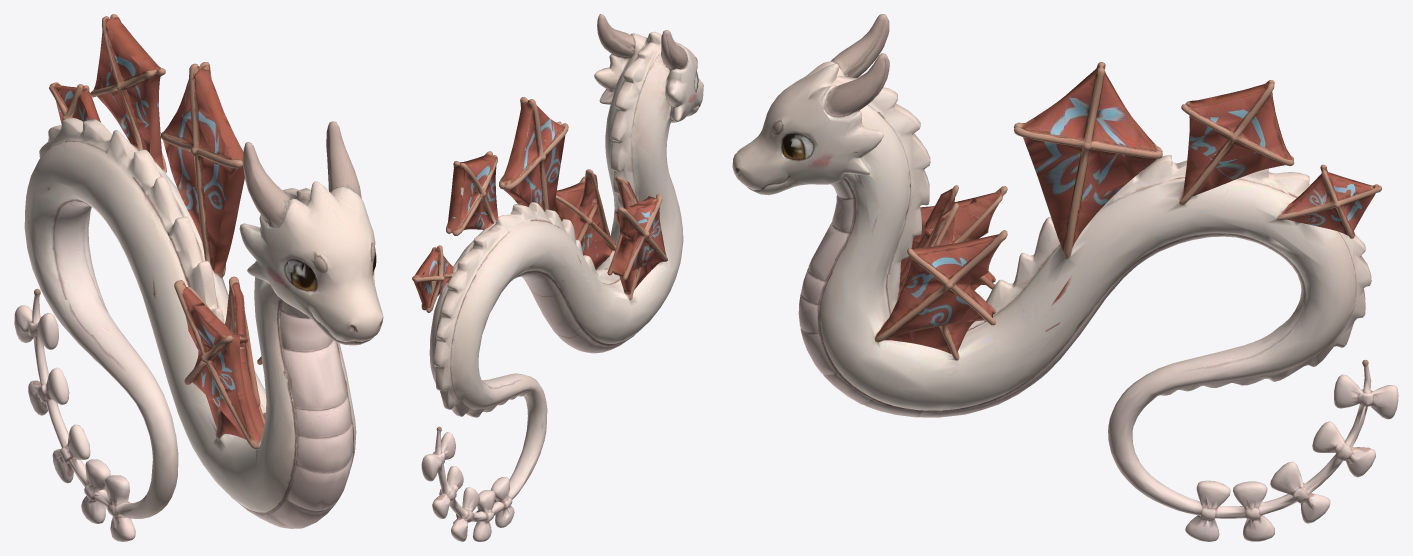
3 renders of one model, left to right at view 1: azimuth 30°, elevation 25°; view 2: azimuth 150°, elevation 25°; view 3: azimuth 270°, elevation 25°, orthographic. The views are drawn at different scales.
Visible parts, largest first — view 1: Mesh_0; view 2: Mesh_0; view 3: Mesh_0.
Part boxes in pixels (x1=…): Mesh_0: x1=14, y1=14, x2=383, y2=541; Mesh_0: x1=412, y1=14, x2=703, y2=541; Mesh_0: x1=732, y1=14, x2=1398, y2=541.
Size of the model in its own units: 0.3461 by 1.59 by 1.9.
1 material, 1 textured.
